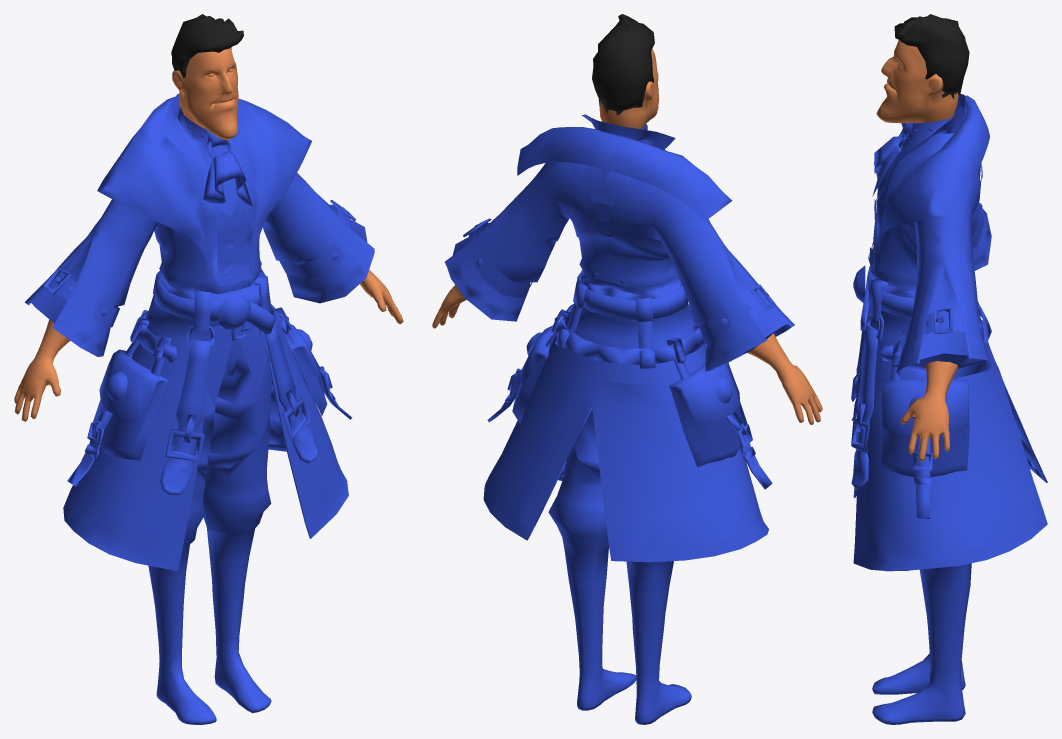
Rendered from ErkekKarakter.fbx.
3 views of the same model, side by side, from view 1: azimuth 30°, elevation 25°; view 2: azimuth 150°, elevation 25°; view 3: azimuth 270°, elevation 25° (orthographic).
Visible parts, largest first — view 1: MaleHum_HeadAndArm.001; view 2: MaleHum_HeadAndArm.001; view 3: MaleHum_HeadAndArm.001.
Part boxes in pixels (bbox=[...]): MaleHum_HeadAndArm.001: bbox=[14, 14, 403, 724]; MaleHum_HeadAndArm.001: bbox=[432, 14, 822, 724]; MaleHum_HeadAndArm.001: bbox=[851, 14, 1047, 724].
Bounding box in the file's own units: 108 × 185 × 47.85.
